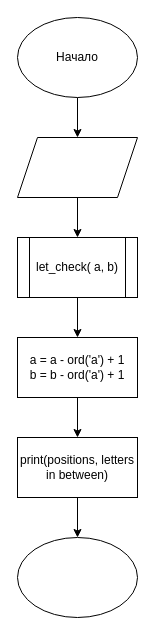
Image size: 155x635. Some labels were removed from this diagram. Each missing label, with the centre of its shape:
"a, b" belongs at pixel 77 167.
"Конец" belongs at pixel 77 577.
